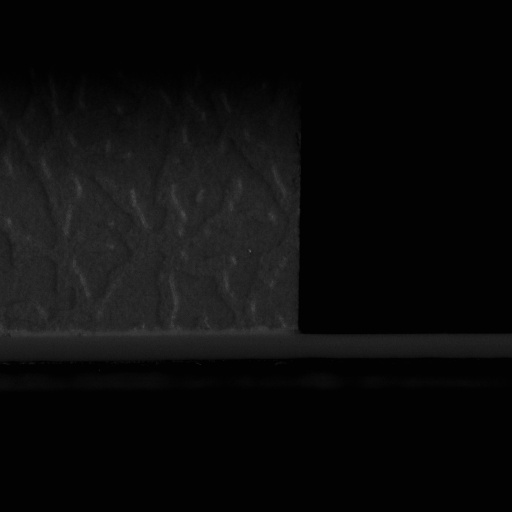changdai: (299, 332, 508, 358)
